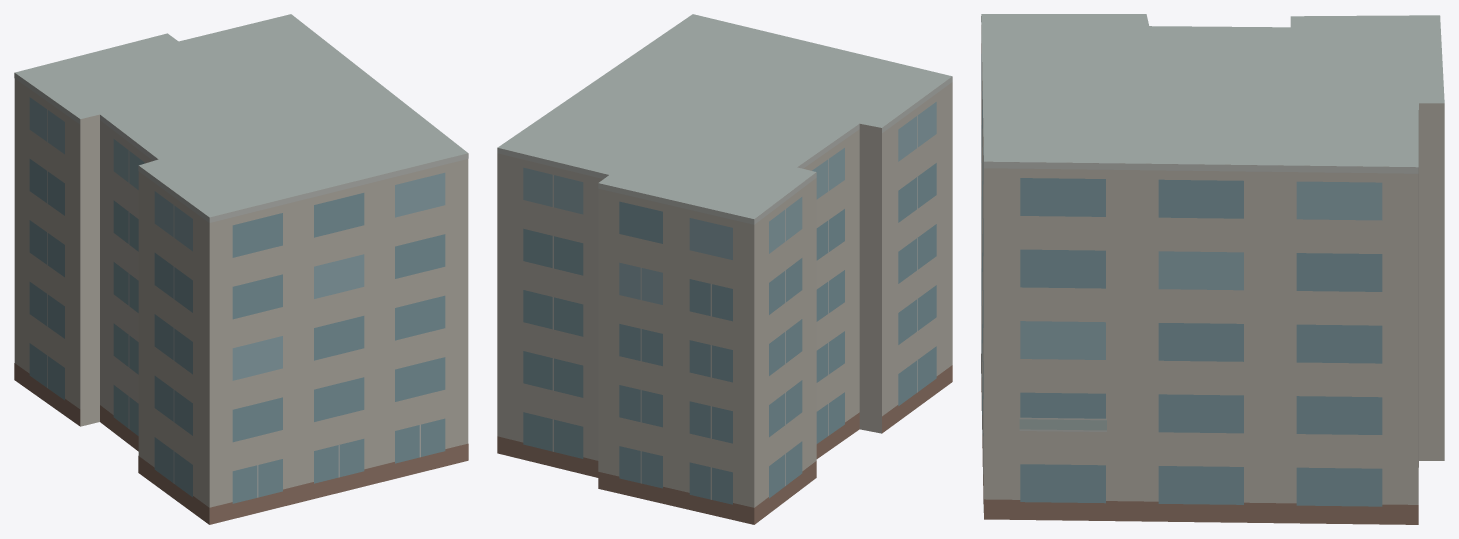
File: survey-upis-32859460.glb
3 views of the same model, side by side, from view 1: azimuth 30°, elevation 25°; view 2: azimuth 150°, elevation 25°; view 3: azimuth 270°, elevation 25° (orthographic). The views are drawn at different scales.
Visible parts, largest first — view 1: survey-upis-32859460.tmp; view 2: survey-upis-32859460.tmp; view 3: survey-upis-32859460.tmp.
Boxes of the visible parts, x1,y1,x2,y2 form: survey-upis-32859460.tmp: (14,14,468,524); survey-upis-32859460.tmp: (497,14,952,524); survey-upis-32859460.tmp: (981,14,1444,524).
Size of the model in its own units: 12.32 by 13.4 by 15.74.
